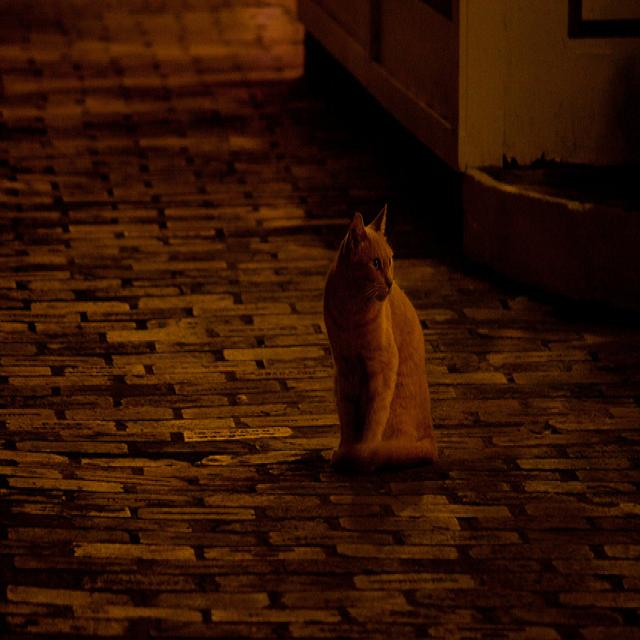Cat: (323, 178, 470, 516)
